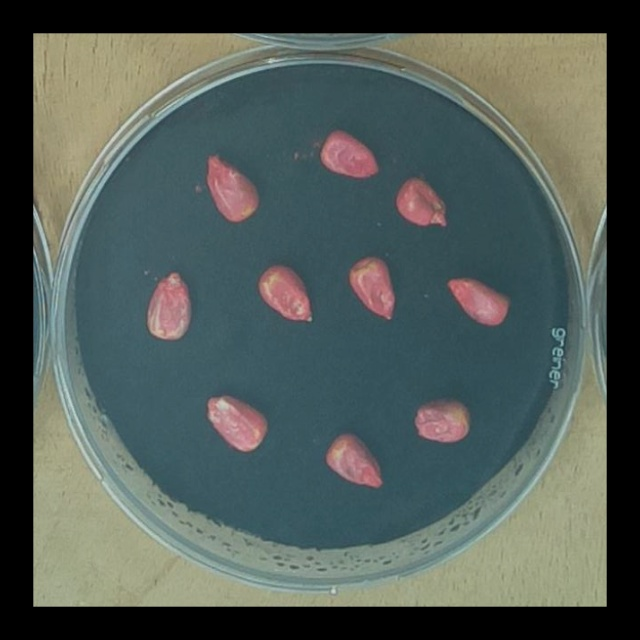Zea mays: (199, 387, 275, 458), (199, 148, 265, 227), (141, 263, 199, 347), (319, 425, 389, 493), (253, 257, 320, 328), (441, 269, 516, 331), (344, 248, 402, 327), (315, 122, 386, 184), (389, 169, 453, 233), (407, 390, 477, 448)
